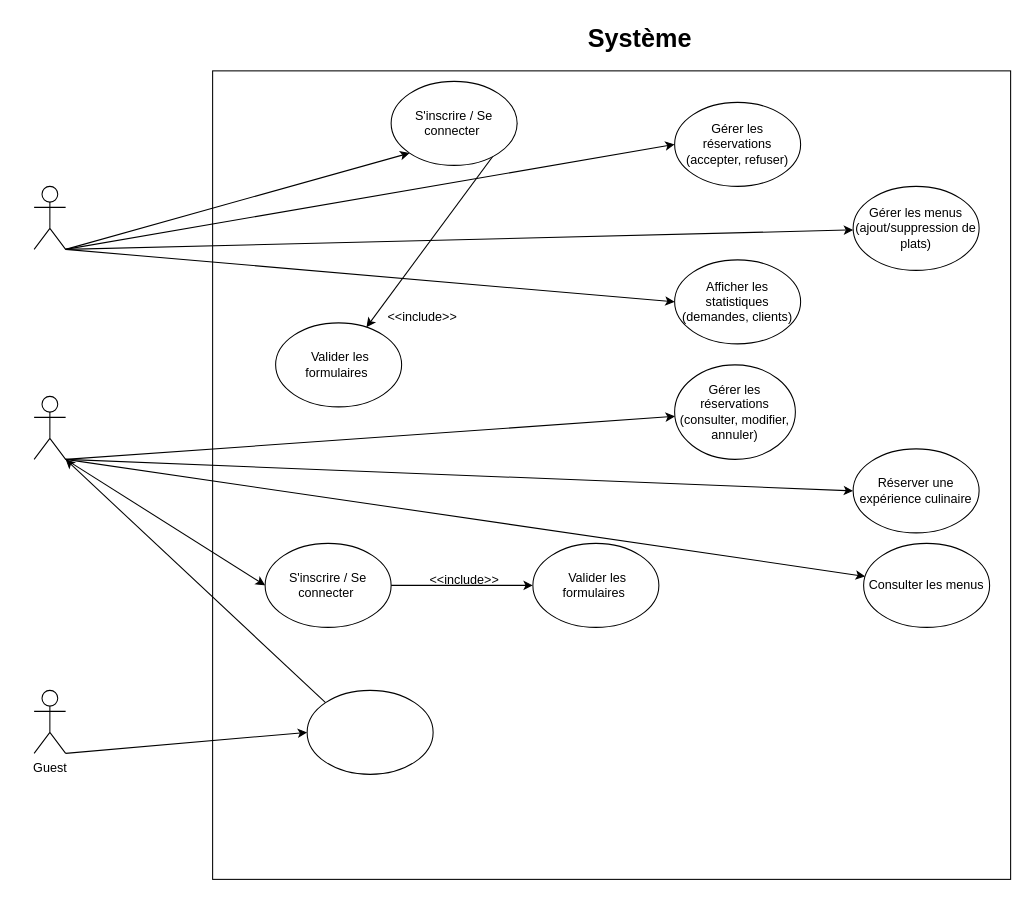
This 1029x898 diagram has some shape labels left out. The centre of each missing label's shape, as x and y in pixels:
"Chaf" belongs at point (49, 217).
"Créer un compte" belongs at point (369, 731).
"Utilisateur" belongs at point (49, 427).
